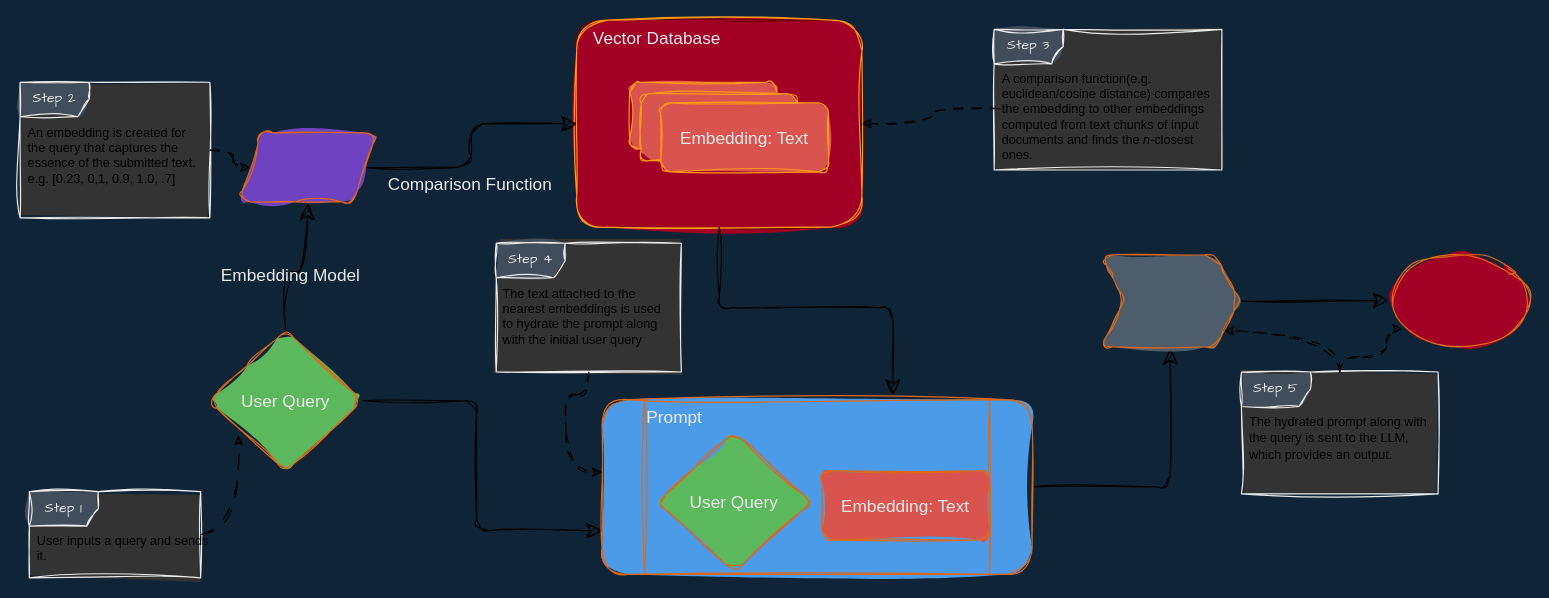
Some shapes in this 1549 by 598 pixel diagram are drawn without their labels. Here are the shapes that lost their labels. From the top down, the centre of each, then its label:
[307,167]: Embedding
[1169,300]: LLM
[1459,300]: Output
